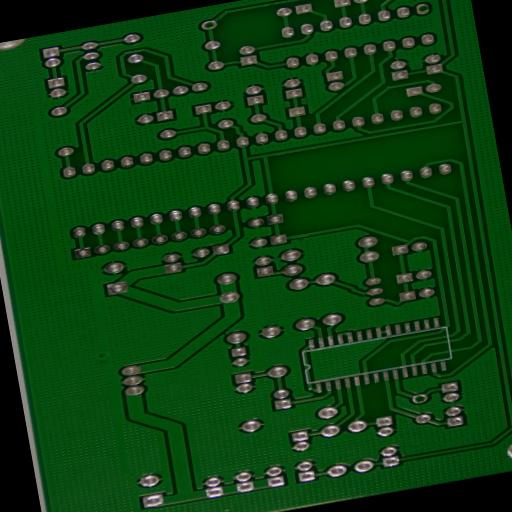missing_hole: (410, 391, 428, 404), (200, 17, 218, 30), (414, 1, 431, 14)
